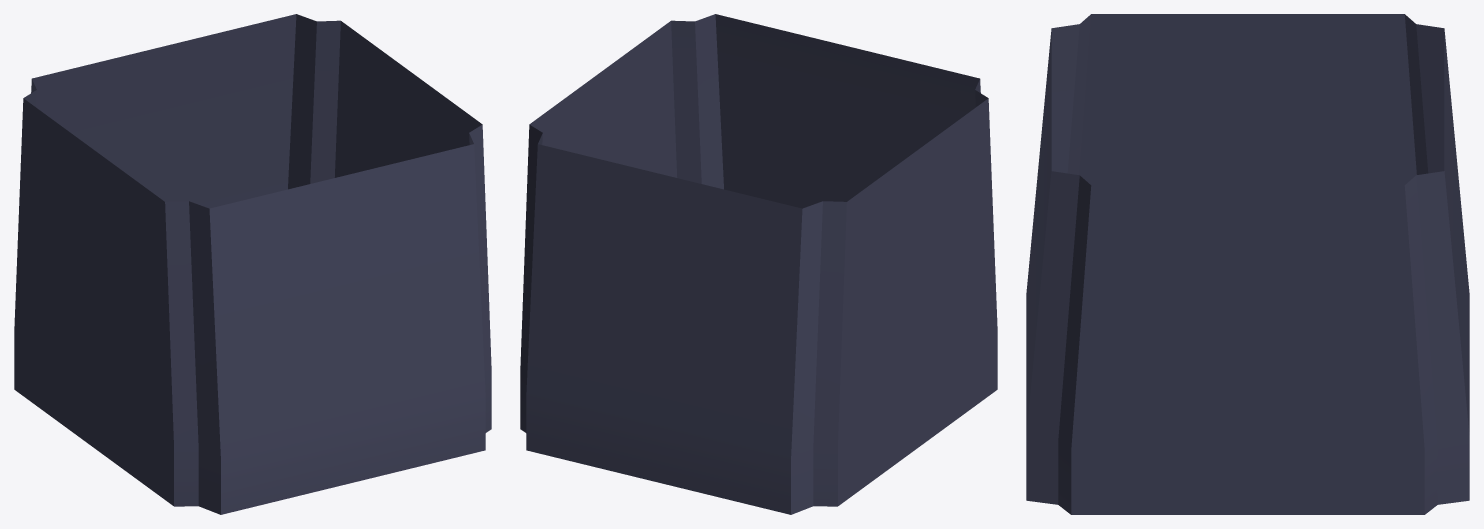
File: Env_Bottom_Base_01.fbx
3 views of the same model, side by side, from view 1: azimuth 30°, elevation 25°; view 2: azimuth 150°, elevation 25°; view 3: azimuth 270°, elevation 25° (orthographic). The views are drawn at different scales.
Parts seen in each view (by area): view 1: Env_Bottom_Base_01; view 2: Env_Bottom_Base_01; view 3: Env_Bottom_Base_01.
Boxes of the visible parts, x1,y1,x2,y2 form: Env_Bottom_Base_01: [14, 14, 491, 514]; Env_Bottom_Base_01: [520, 14, 997, 514]; Env_Bottom_Base_01: [1026, 14, 1469, 514].
Bounding box in the file's own units: 0.8844 × 0.7932 × 0.9667.
